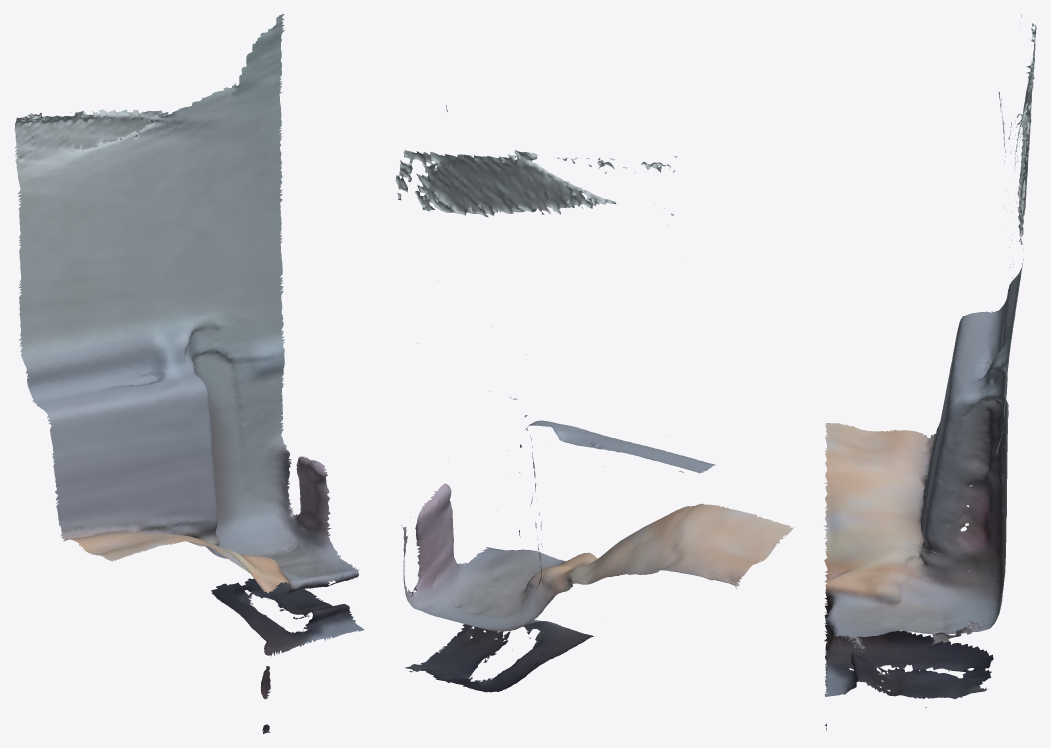
File: apartment-full-43-4045b4bef668.glb
The picture shows the model from 3 angles, left to right: view 1: azimuth 30°, elevation 25°; view 2: azimuth 150°, elevation 25°; view 3: azimuth 270°, elevation 25°; orthographic projection. The views are drawn at different scales.
Bounding box in the file's own units: 0.774 × 1.84 × 0.516.
